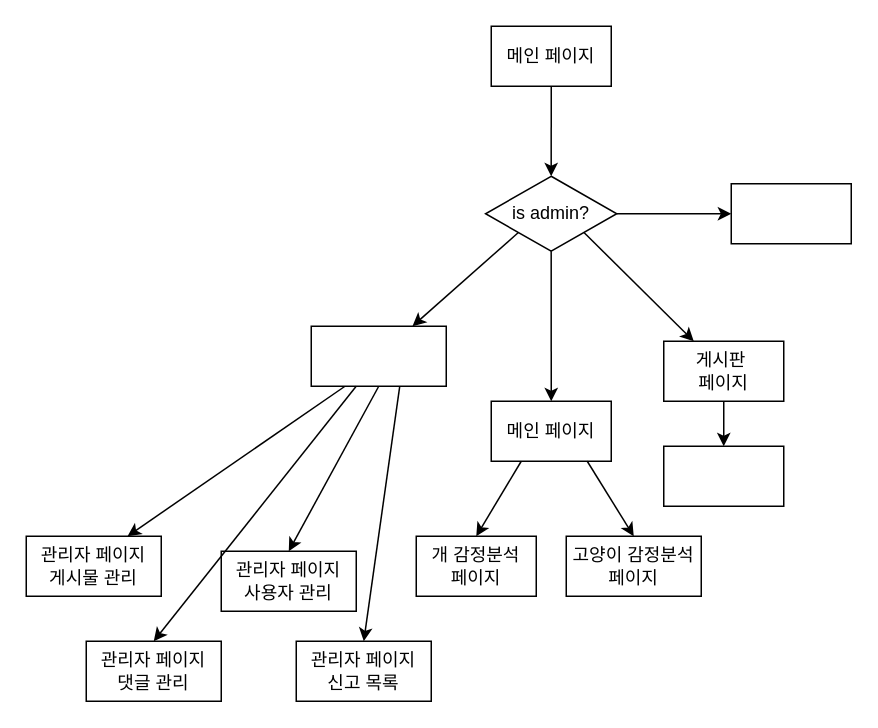
This 878x728 diagram has some shape labels left out. Here are the shapes that lost their labels. From the top down, the box of each, then its label:
(730, 182, 851, 244): 지도 페이지
(310, 325, 446, 386): 관리자 페이지 접속 가능
(662, 445, 784, 506): 게시글 상세
